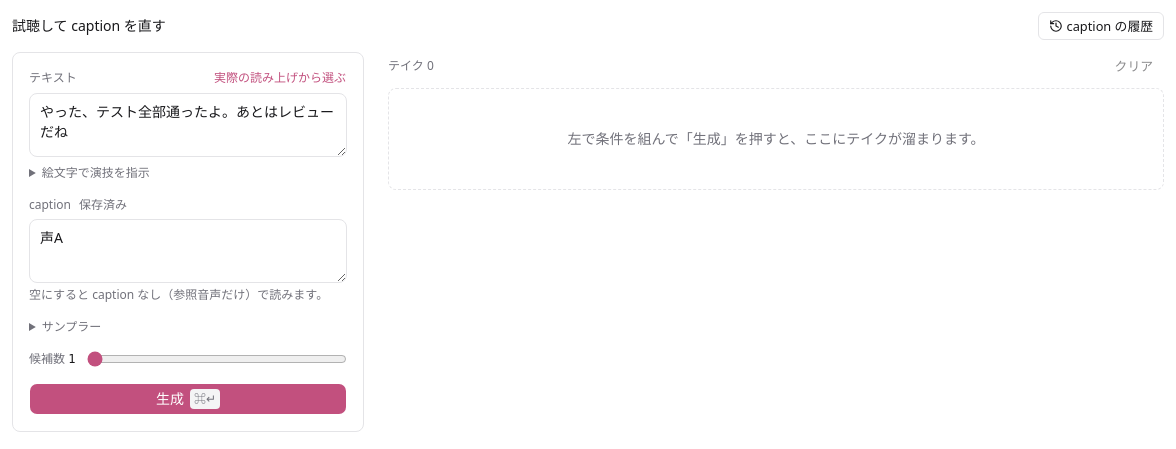
it: 合成が失敗したらそのテイクに理由を出し、残りの待機テイクは捨てる
Set the slider labelled "候補数 1" to "3": {"x": 165, "y": 359} [87,351,347,367]
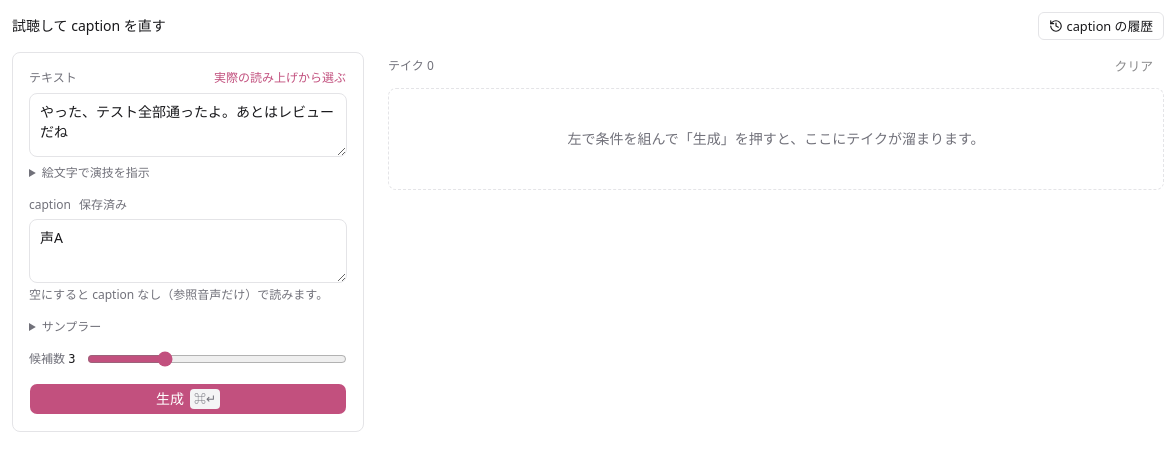
Click the button "生成 ⌘↵": {"x": 188, "y": 399} [29,383,347,415]
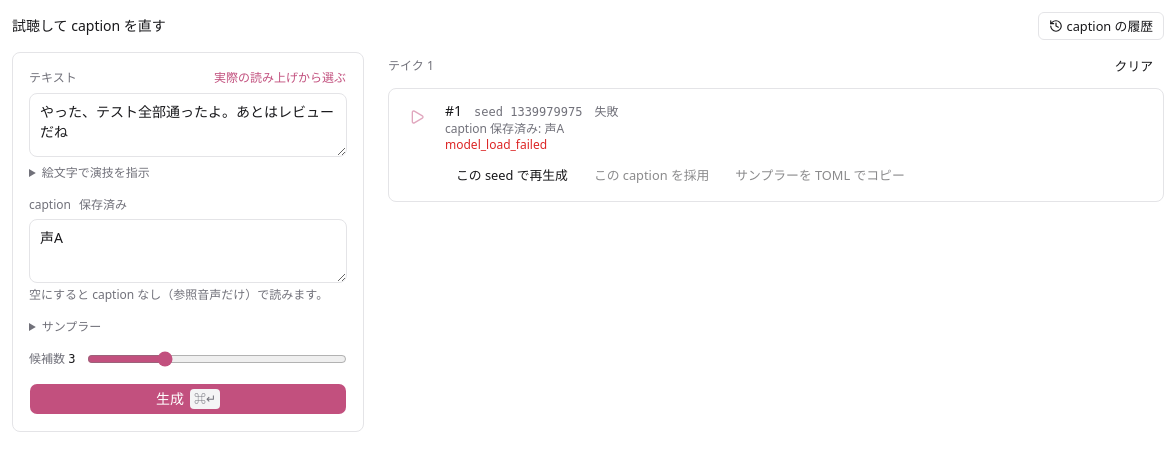
Expected: the text "model_load_failed" is shown, [445,136,547,153]
Expected: the number of buttons named "テイク 1 を再生" is 1, [401,101,433,133]
